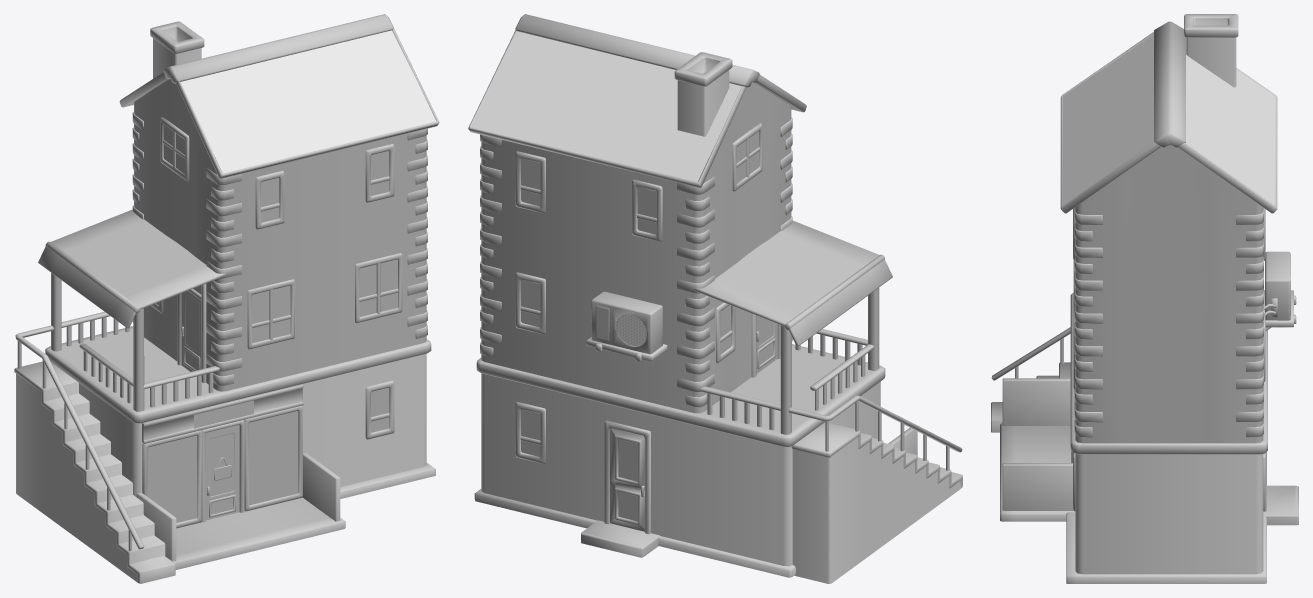
File: cafe_02.fbx
3 views of the same model, side by side, from view 1: azimuth 30°, elevation 25°; view 2: azimuth 150°, elevation 25°; view 3: azimuth 270°, elevation 25° (orthographic). The views are drawn at different scales.
Visible parts, largest first — view 1: cafe_02, cafe_bricks_02, cafe_roof_02, cafe_texture_02; view 2: cafe_02, cafe_bricks_02, cafe_roof_02, cafe_wire_02; view 3: cafe_02, cafe_bricks_02, cafe_roof_02.
Part boxes in pixels (left/top/right/bottom): cafe_02: left=14, top=14, right=439, bottom=583; cafe_bricks_02: left=16, top=38, right=426, bottom=582; cafe_roof_02: left=180, top=30, right=435, bottom=173; cafe_texture_02: left=148, top=400, right=296, bottom=493; cafe_02: left=468, top=14, right=962, bottom=577; cafe_bricks_02: left=481, top=70, right=960, bottom=583; cafe_roof_02: left=471, top=31, right=741, bottom=182; cafe_wire_02: left=616, top=314, right=646, bottom=346; cafe_02: left=991, top=14, right=1298, bottom=583; cafe_bricks_02: left=1075, top=37, right=1263, bottom=574; cafe_roof_02: left=1062, top=34, right=1275, bottom=205.
Size of the model in its own units: 5.28 by 6.67 by 3.99.
